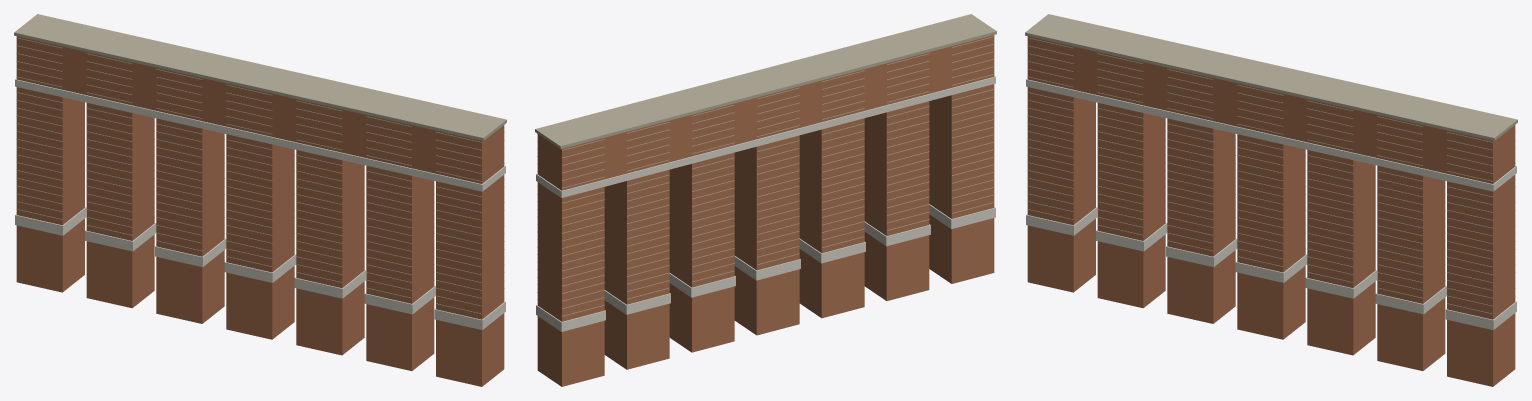
Rendered from studio-colonnade.glb.
3 renders of one model, left to right at view 1: azimuth 90°, elevation 25°; view 2: azimuth 150°, elevation 25°; view 3: azimuth 270°, elevation 25°, orthographic. The views are drawn at different scales.
Size of the model in its own units: 6.49 by 6.09 by 10.89.
